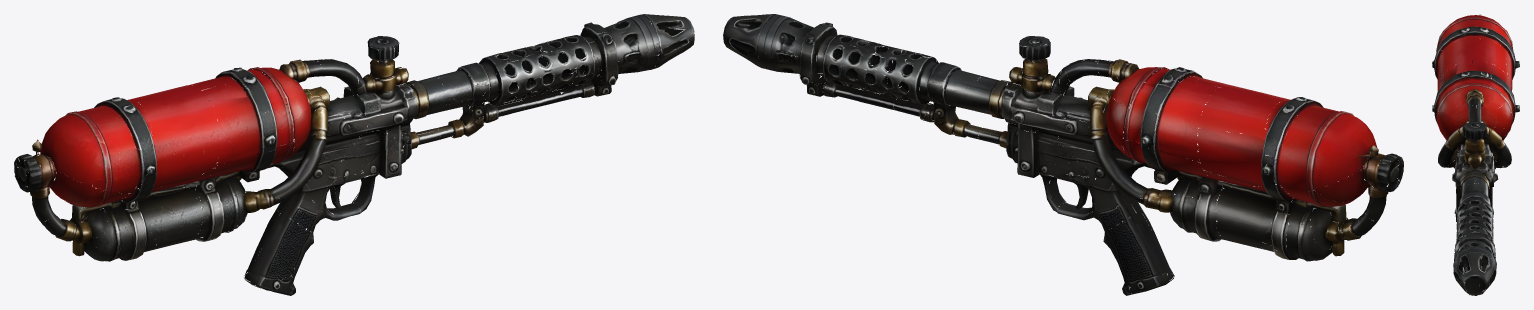
Rendered from flame.glb.
3 renders of one model, left to right at view 1: azimuth 30°, elevation 25°; view 2: azimuth 150°, elevation 25°; view 3: azimuth 270°, elevation 25°, orthographic. The views are drawn at different scales.
Parts seen in each view (by area): view 1: tripo_node_bb5e157d-a985-4461-beb4-c4d5fb15fd65; view 2: tripo_node_bb5e157d-a985-4461-beb4-c4d5fb15fd65; view 3: tripo_node_bb5e157d-a985-4461-beb4-c4d5fb15fd65.
Boxes of the visible parts, bbox=[...] form: tripo_node_bb5e157d-a985-4461-beb4-c4d5fb15fd65: bbox=[14, 14, 694, 295]; tripo_node_bb5e157d-a985-4461-beb4-c4d5fb15fd65: bbox=[723, 14, 1403, 295]; tripo_node_bb5e157d-a985-4461-beb4-c4d5fb15fd65: bbox=[1432, 14, 1519, 295].
Size of the model in its own units: 1 by 0.3317 by 0.1525.
1 material, 1 textured.
